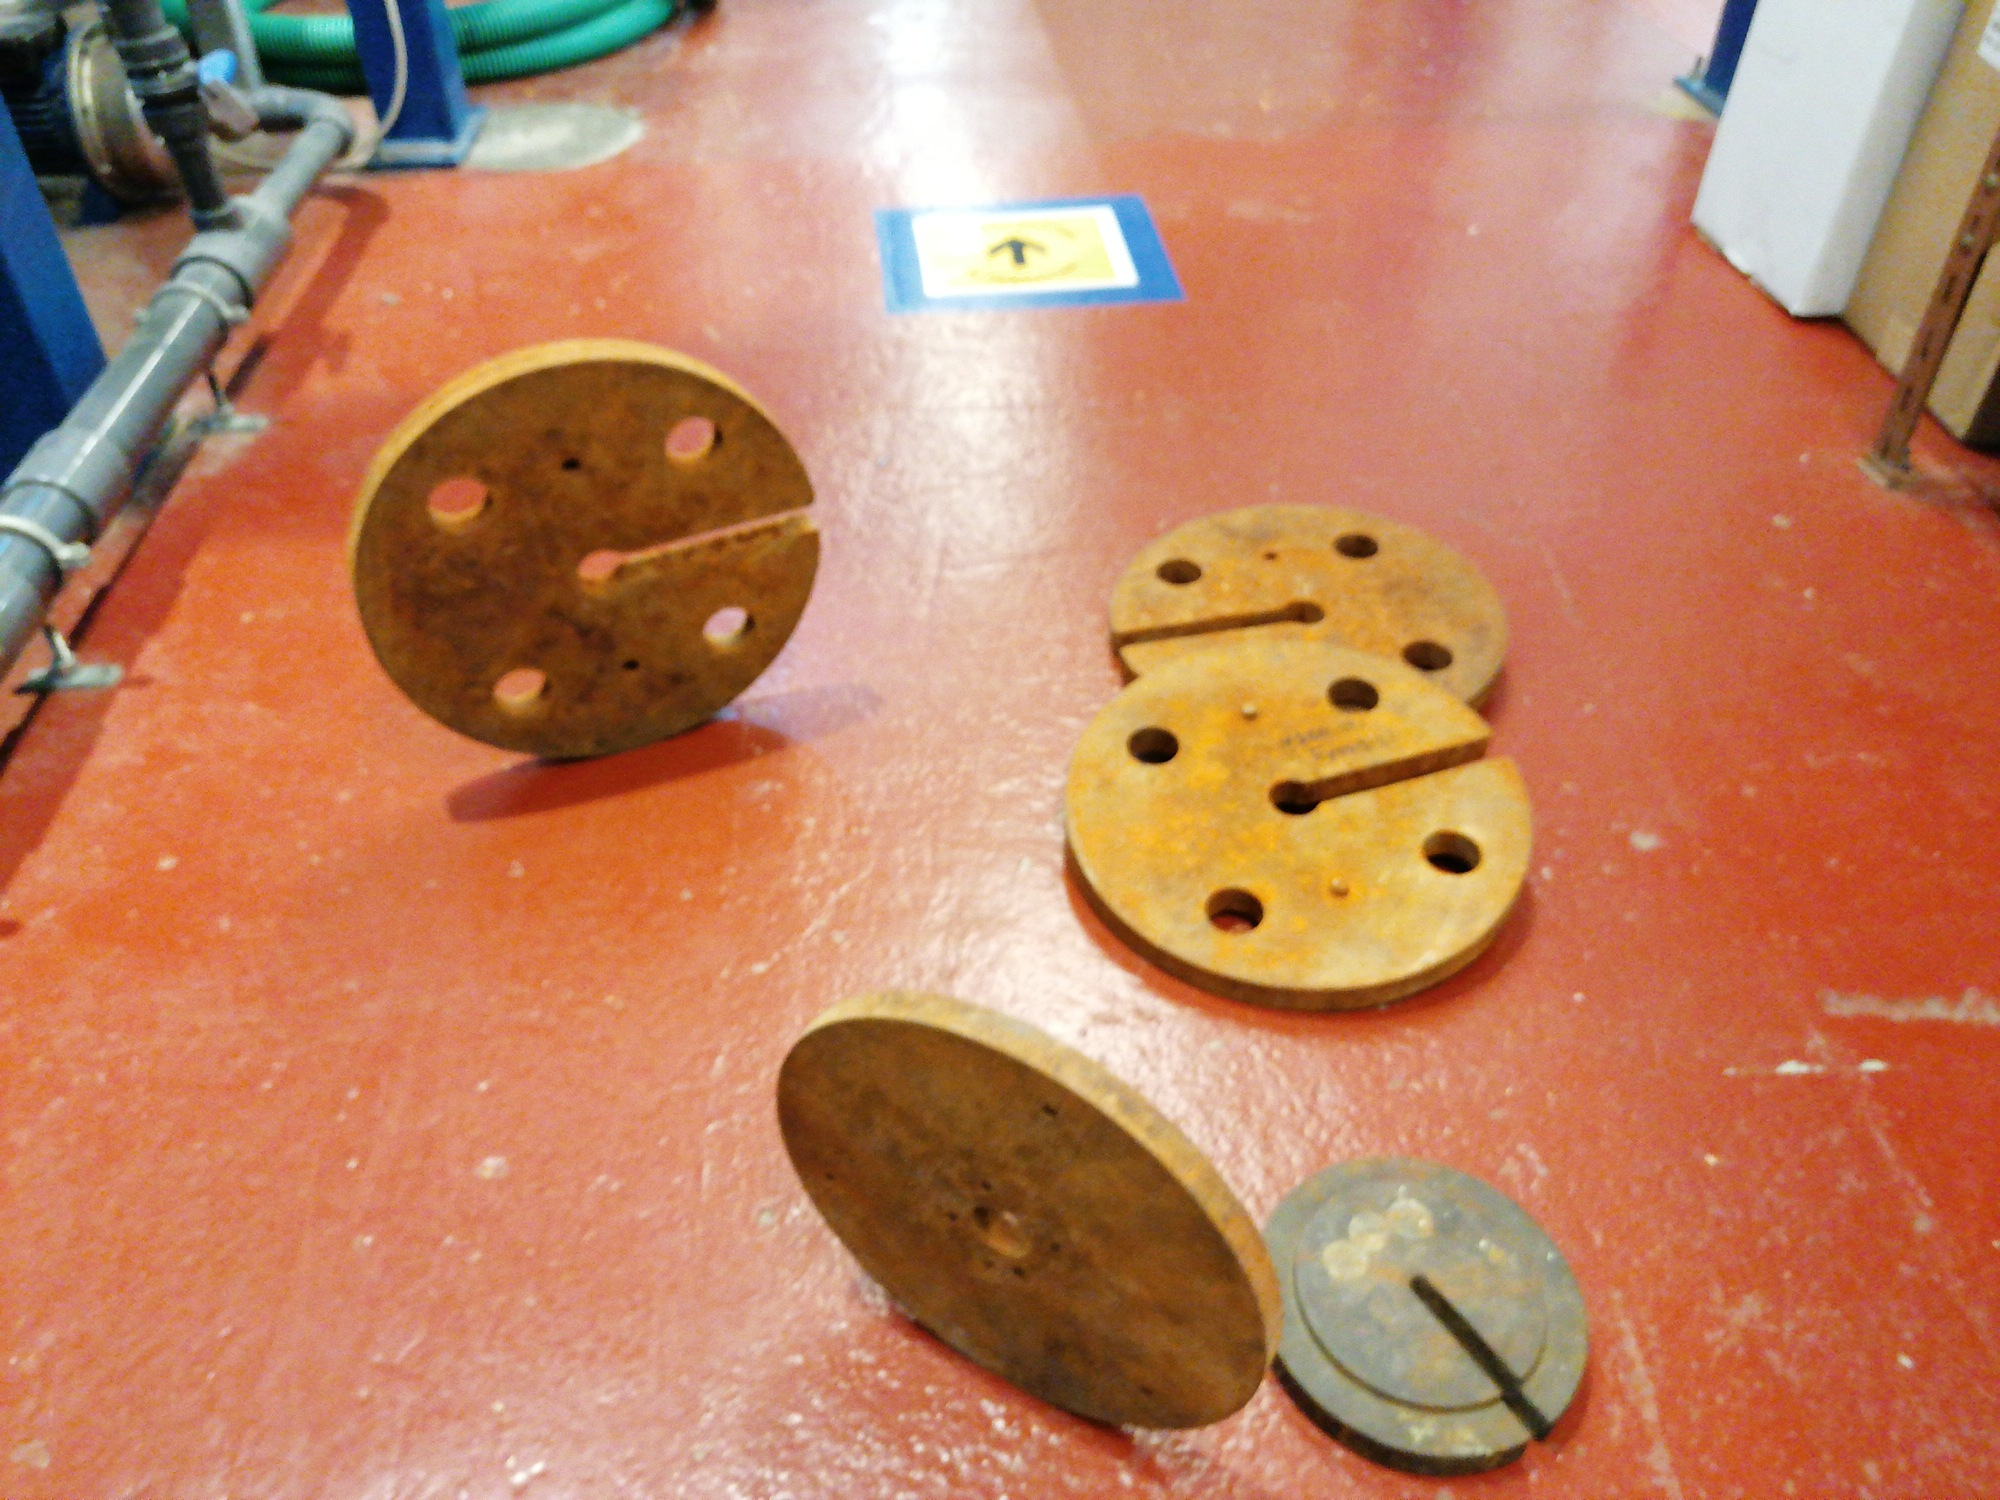flange: (776, 988, 1283, 1431), (346, 339, 820, 759), (1058, 638, 1532, 1010), (1258, 1150, 1592, 1478), (1106, 499, 1512, 718)
